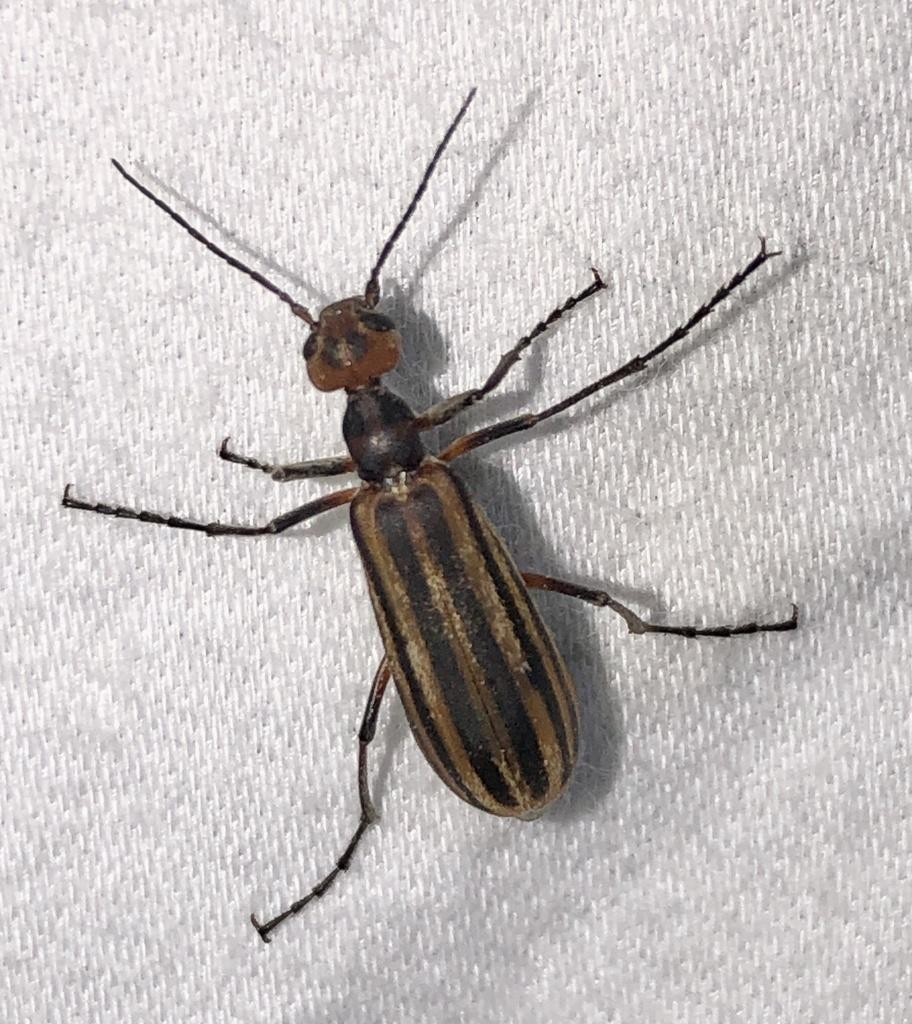blister_beetle: (0, 70, 912, 1024)
